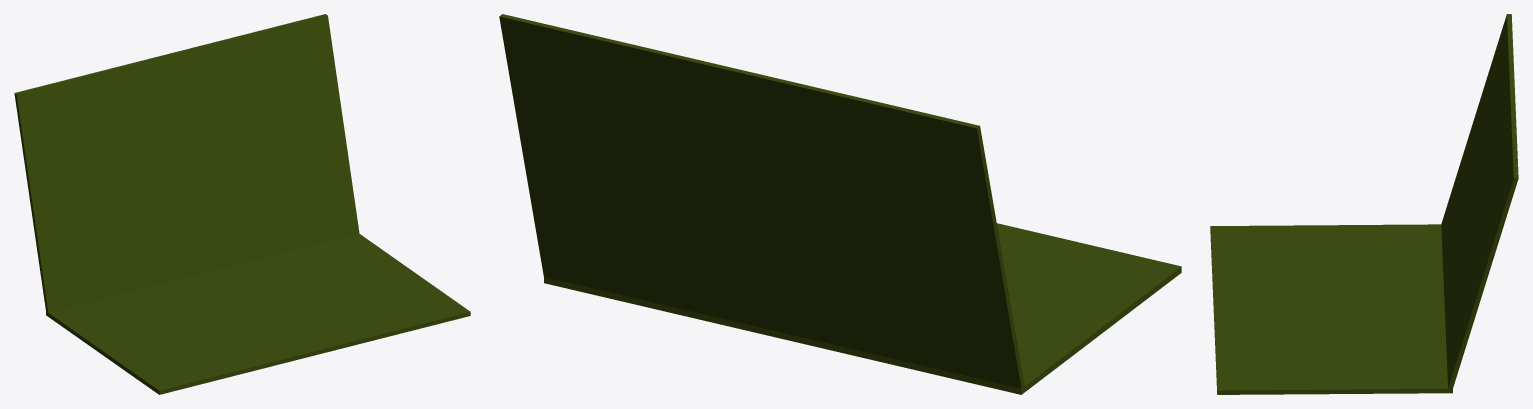
File: Laptop_M.fbx
The picture shows the model from 3 angles, left to right: view 1: azimuth 30°, elevation 25°; view 2: azimuth 150°, elevation 25°; view 3: azimuth 270°, elevation 25°; orthographic projection. The views are drawn at different scales.
Visible parts, largest first — view 1: Laptop_Screen, Laptop; view 2: Laptop; view 3: Laptop, Laptop_Screen.
Part boxes in pixels (x1,y1,x2,y2): Laptop_Screen: [22, 21, 352, 288]; Laptop: [14, 14, 470, 394]; Laptop: [499, 14, 1181, 394]; Laptop: [1210, 14, 1518, 394]; Laptop_Screen: [1447, 20, 1511, 363].
Bounding box in the file's own units: 0.222 × 0.1331 × 0.1736.
